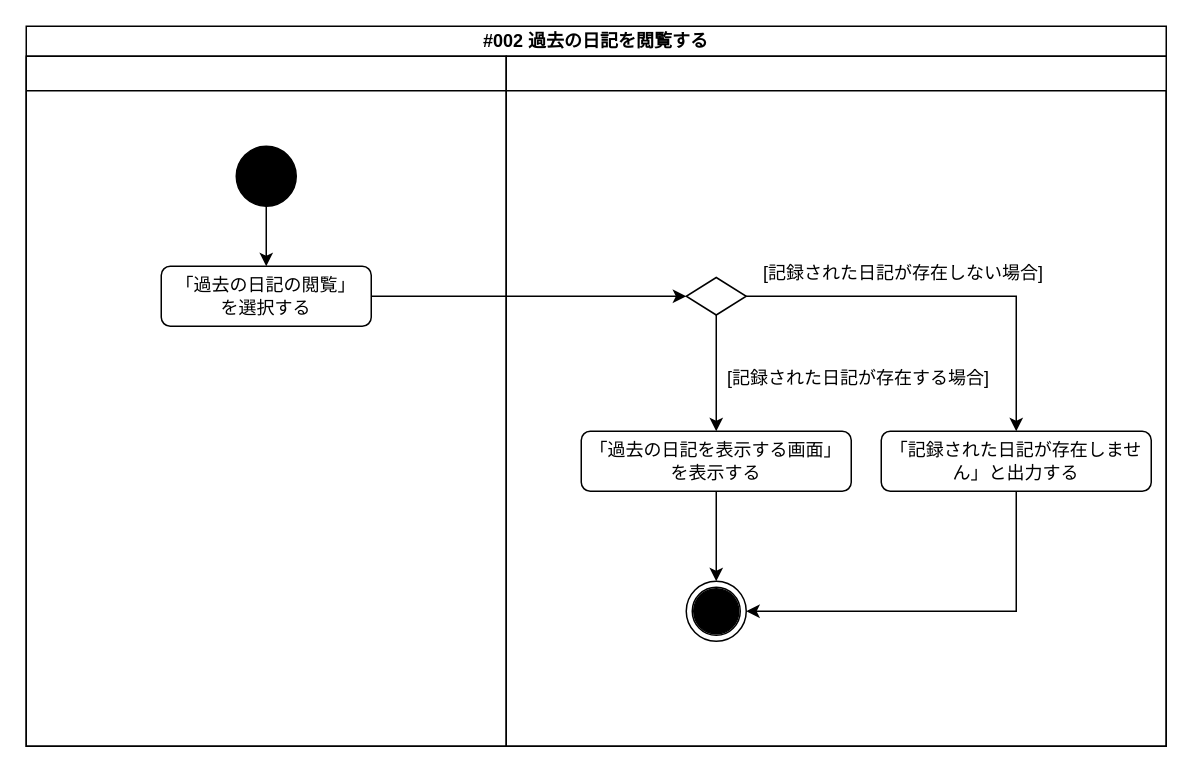
Some shapes in this 1193 by 773 pixel diagram are drawn without their labels. The shapes that lost their labels are listed below. From the top down, each one's box as (x1, y1, x2, y2) in pixels, then its label:
(25, 55, 506, 746): ユーザー
(505, 55, 1166, 746): システム
